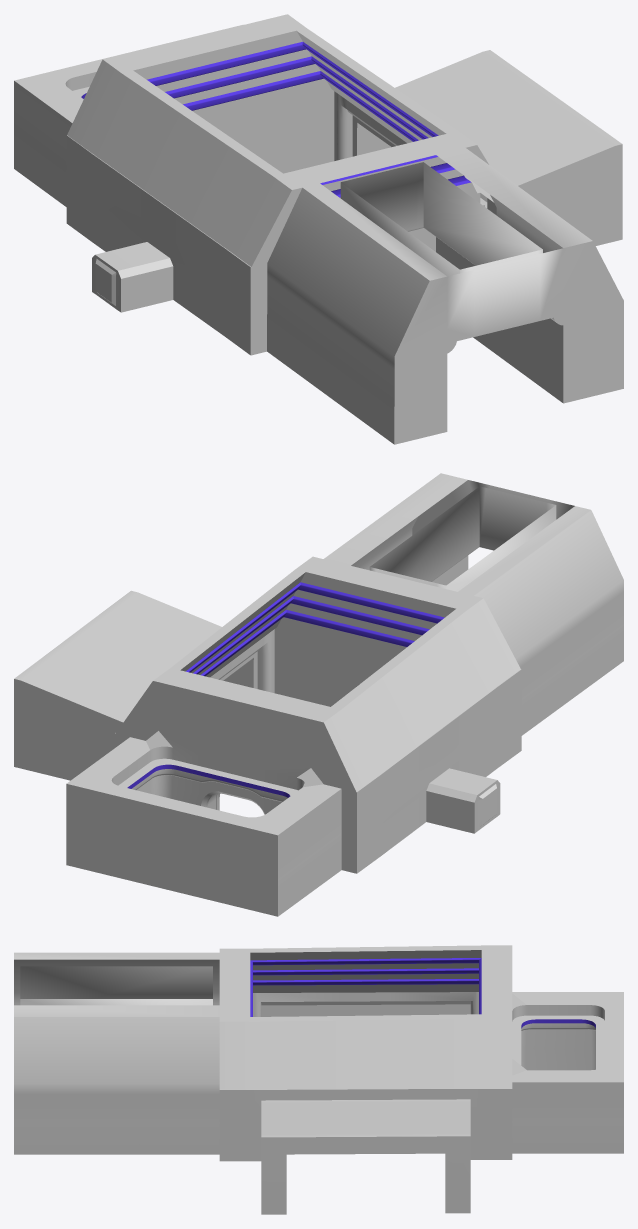
The model's file is SpawnRoomWalls.fbx.
3 views of the same model, one above another, from view 1: azimuth 30°, elevation 25°; view 2: azimuth 150°, elevation 25°; view 3: azimuth 270°, elevation 25° (orthographic). The views are drawn at different scales.
Visible parts, largest first — view 1: Spawn Walls; view 2: Spawn Walls; view 3: Spawn Walls.
Part boxes in pixels (x1=…): Spawn Walls: x1=14, y1=14, x2=623, y2=444; Spawn Walls: x1=14, y1=473, x2=623, y2=916; Spawn Walls: x1=14, y1=945, x2=623, y2=1214.
Bounding box in the file's own units: 8240 × 2693 × 11872.
